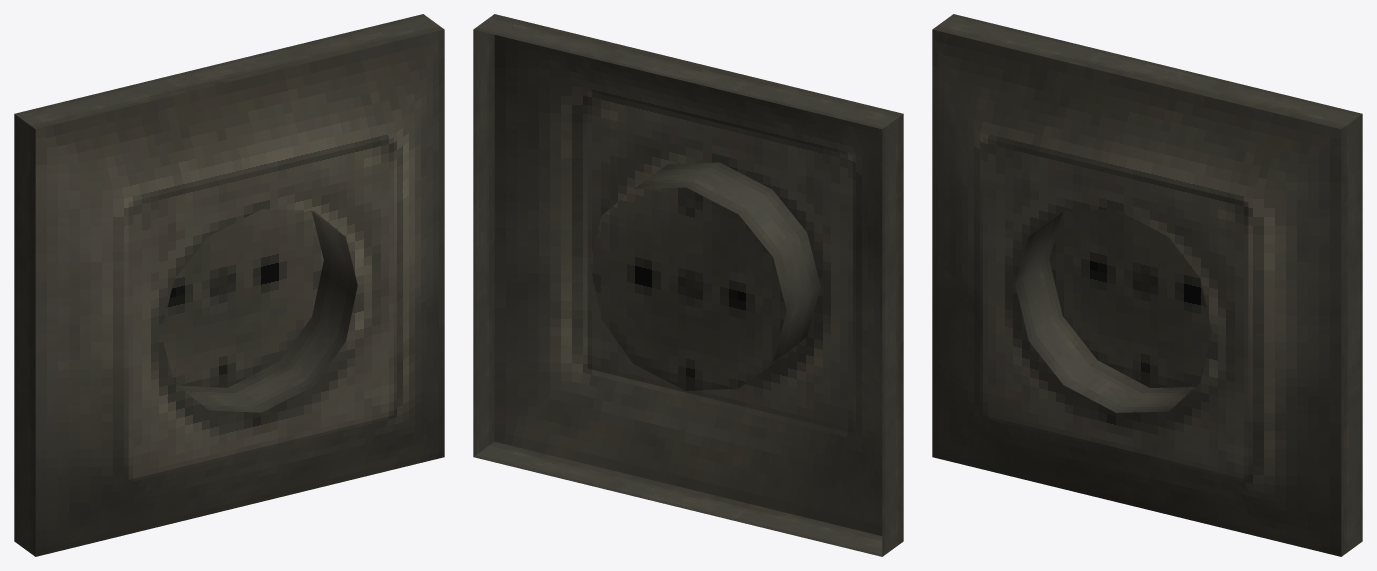
Rendered from electrical_outlet_2.glb.
3 renders of one model, left to right at view 1: azimuth 30°, elevation 25°; view 2: azimuth 150°, elevation 25°; view 3: azimuth 330°, elevation 25°, orthographic.
Parts seen in each view (by area): view 1: electrical_outlet_2; view 2: electrical_outlet_2; view 3: electrical_outlet_2.
Part boxes in pixels (x1,y1,x2,y2): electrical_outlet_2: [14, 14, 444, 556]; electrical_outlet_2: [473, 14, 903, 556]; electrical_outlet_2: [932, 14, 1362, 556].
Size of the model in its own units: 0.1113 by 0.1112 by 0.02.
Materials: 1 (1 with a texture image).
